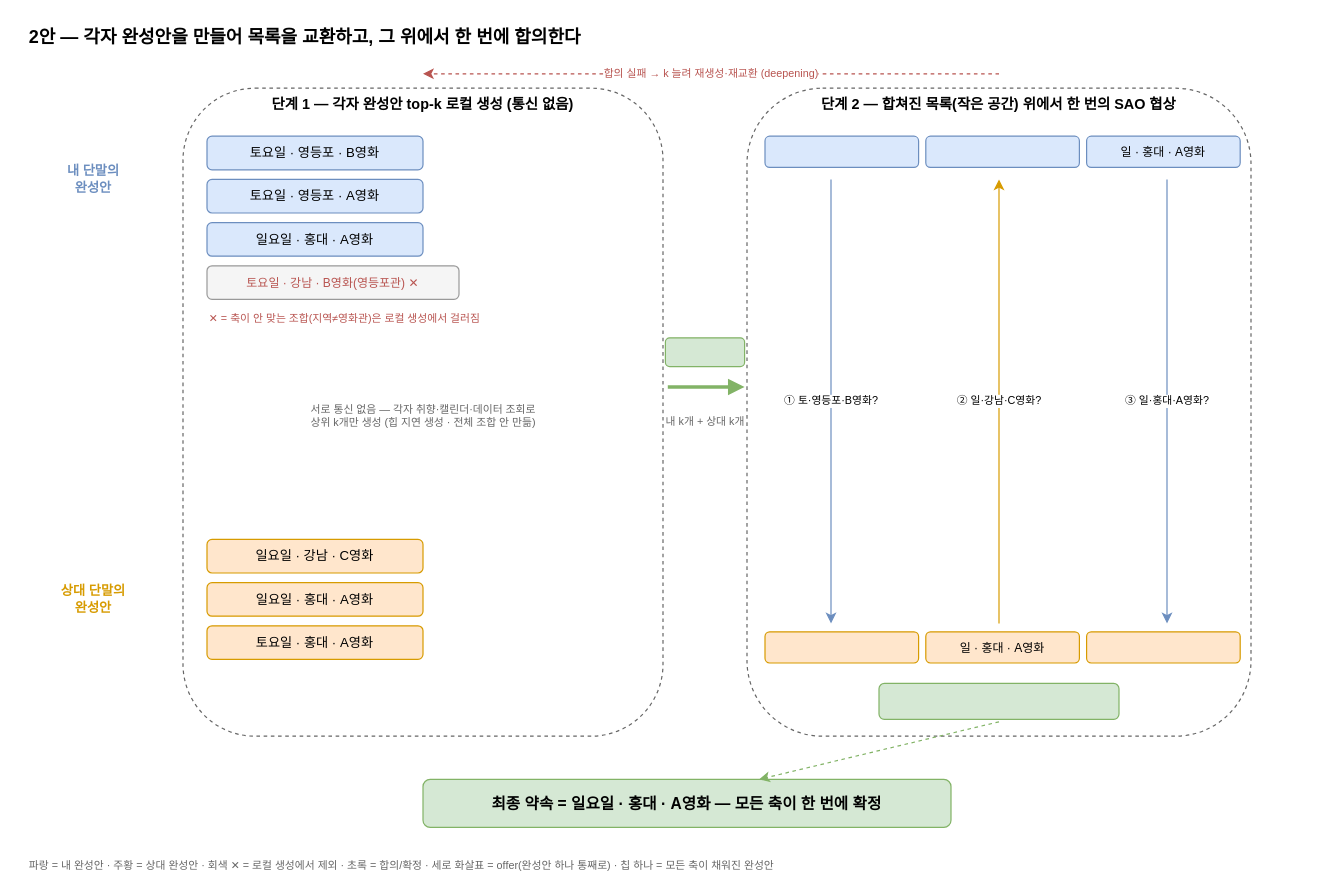
The diagram is 1319 pixels wide and 893 high, and some of its shapes have lost their labels. Each missing label, with the centre of its shape:
"✓ 합의: 일요일 · 홍대 · A영화" belongs at (998,700).
"목록 교환" belongs at (704,352).
"일 · 강남 · C영화" belongs at (841,647).
"토 · 영등포 · A영화" belongs at (1002,151).
"토 · 영등포 · B영화" belongs at (841,151).
"토 · 홍대 · A영화" belongs at (1162,647).
